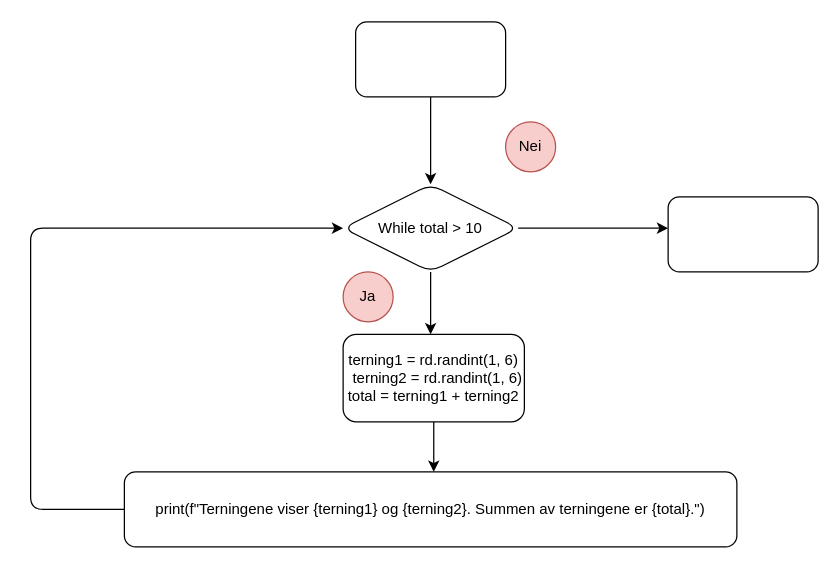
This 840x569 diagram has some shape labels left out. Here are the shapes that lost their labels. From the top down, the centre of each, then its label:
the point at 430,59: Total = 0
the point at 742,234: Koden ender
